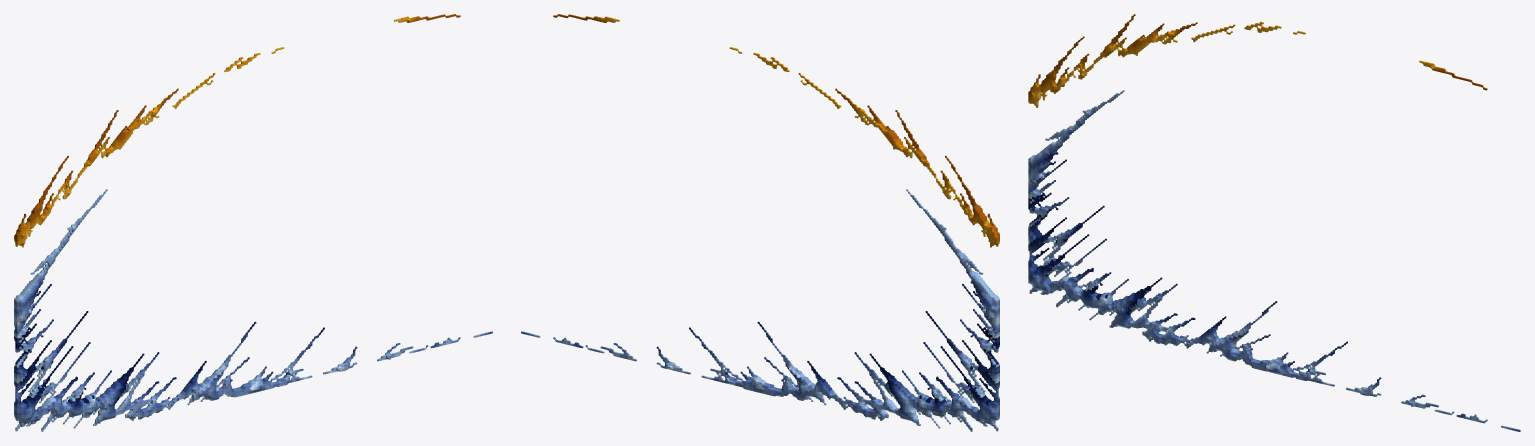
The model's file is Fight_018_3_12.obj.
3 renders of one model, left to right at view 1: azimuth 30°, elevation 25°; view 2: azimuth 150°, elevation 25°; view 3: azimuth 330°, elevation 25°, orthographic. The views are drawn at different scales.
Bounding box in the file's own units: 22.18 × 14.98 × 0.6.
1 material, 1 textured.
